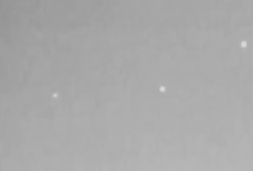Target: (54, 42, 246, 97)
